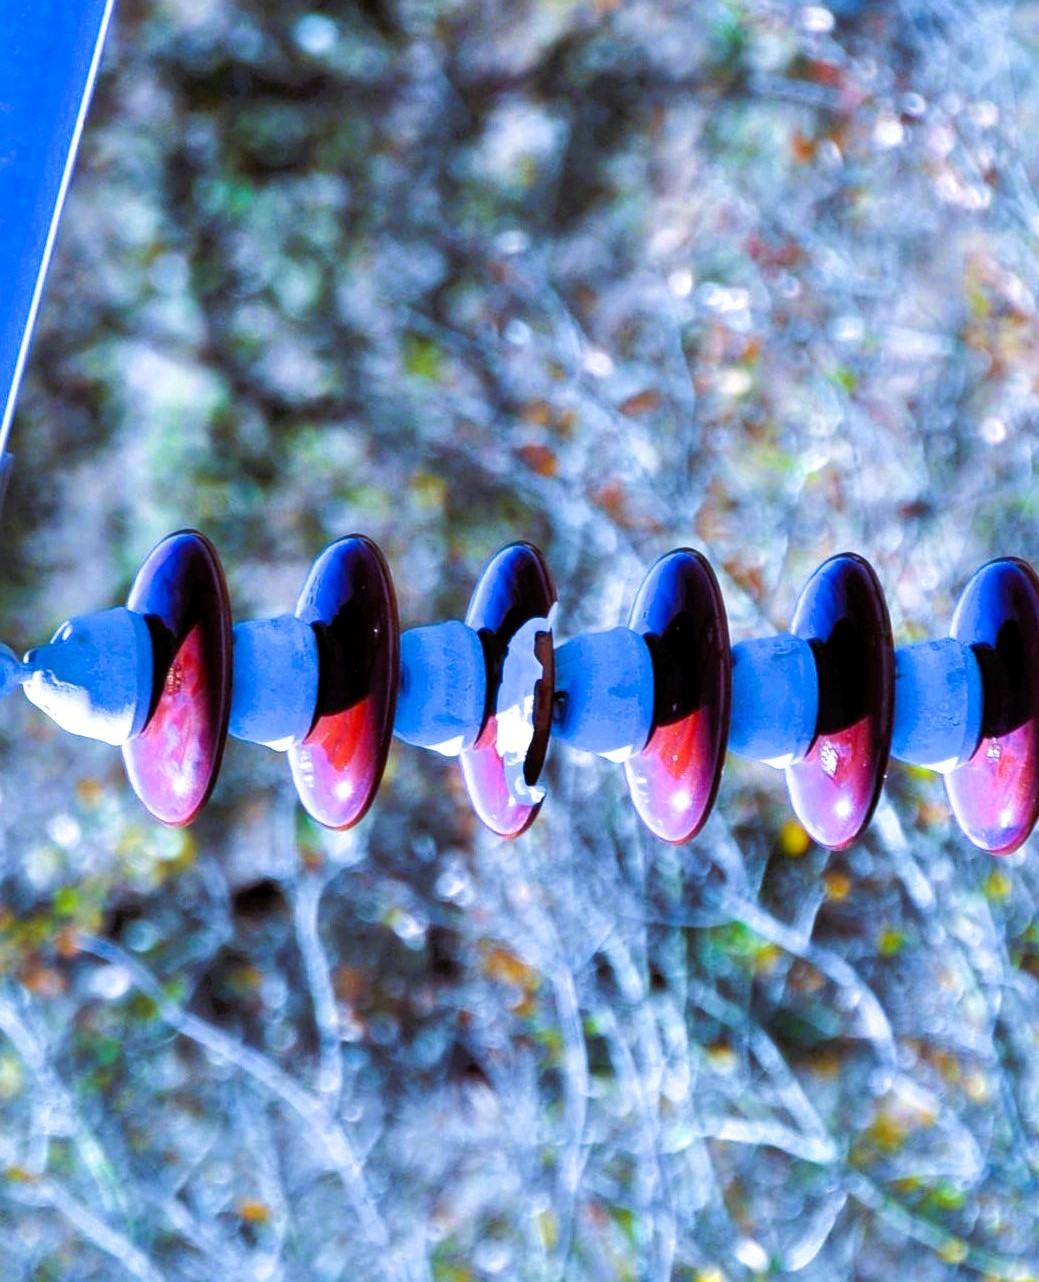insulator breakage: (451, 541, 565, 848)
